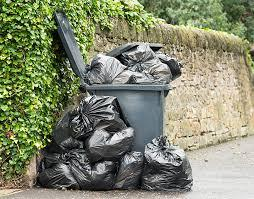trash: (36, 91, 198, 192), (84, 46, 187, 88)
trash_can_overflow: (28, 4, 216, 199)
